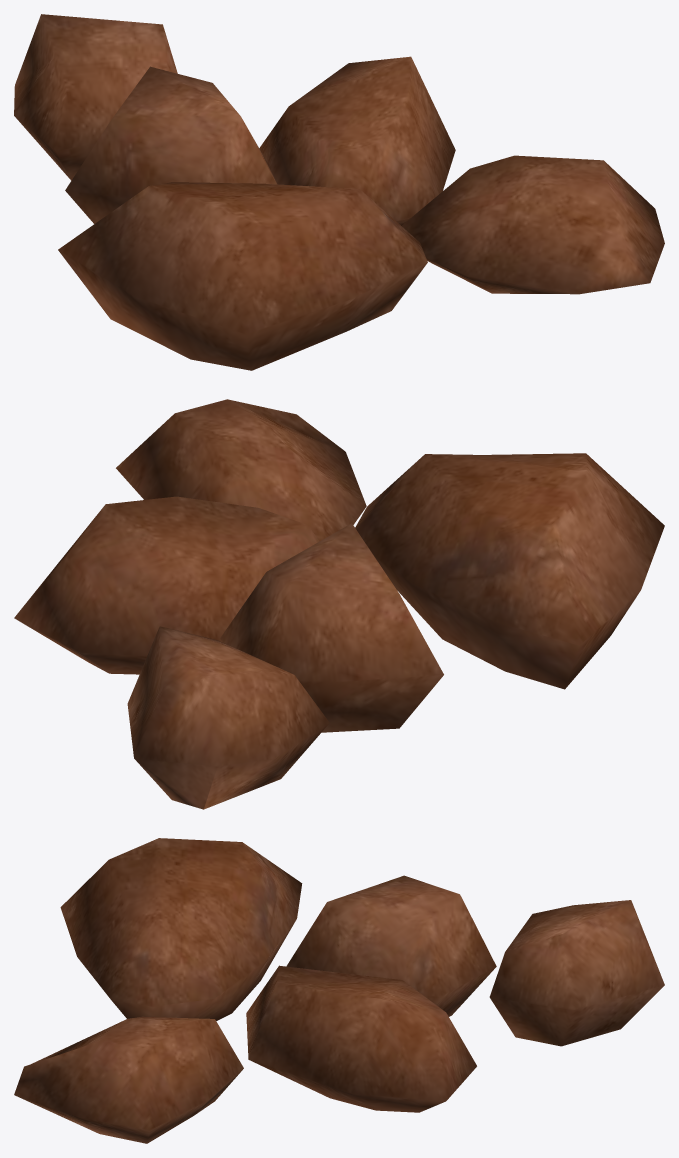
Rendered from small_stones_01.glb.
The picture shows the model from 3 angles, top to bottom: view 1: azimuth 30°, elevation 25°; view 2: azimuth 150°, elevation 25°; view 3: azimuth 270°, elevation 25°; orthographic projection. The views are drawn at different scales.
Visible parts, largest first — view 1: small_stones_01; view 2: small_stones_01; view 3: small_stones_01.
Boxes of the visible parts, box(x1,y1,x2,y2) form: small_stones_01: box(14, 14, 664, 370); small_stones_01: box(14, 399, 664, 809); small_stones_01: box(14, 838, 664, 1143).
Bounding box in the file's own units: 0.8605 × 0.2382 × 1.04.
Materials: 1 (1 with a texture image).
